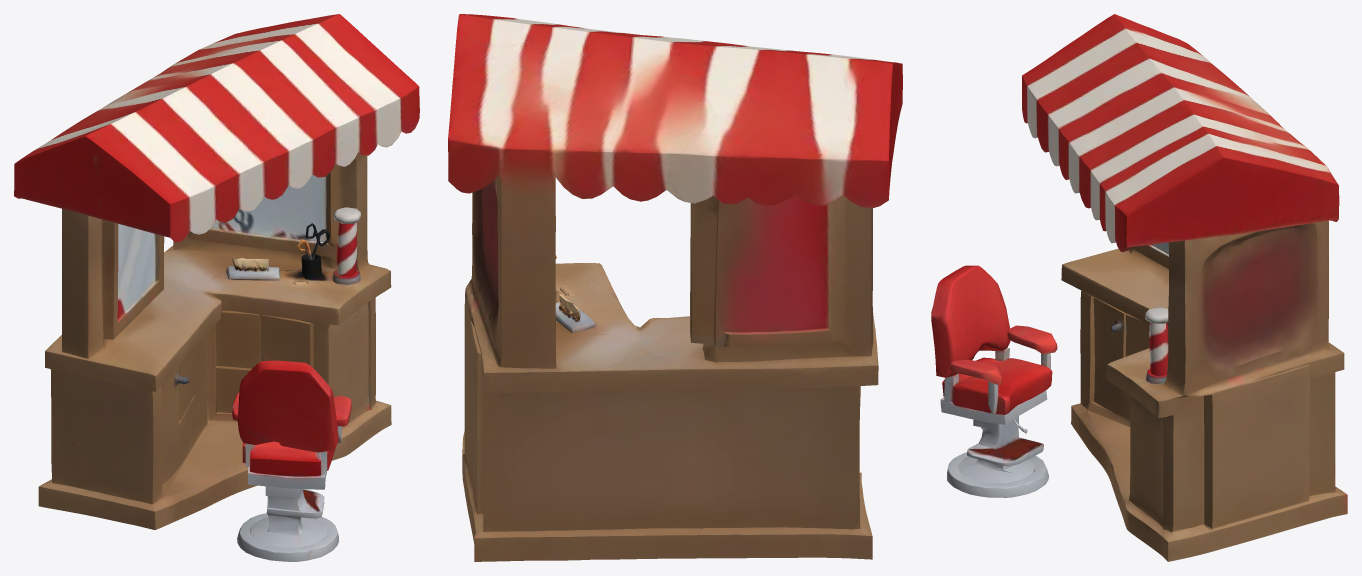
The model's file is stall_barber.glb.
3 renders of one model, left to right at view 1: azimuth 30°, elevation 25°; view 2: azimuth 150°, elevation 25°; view 3: azimuth 270°, elevation 25°, orthographic. The views are drawn at different scales.
Parts seen in each view (by area): view 1: model; view 2: model; view 3: model.
Part boxes in pixels (x1=…): model: x1=14, y1=14, x2=419, y2=561; model: x1=448, y1=14, x2=902, y2=561; model: x1=931, y1=14, x2=1347, y2=561.
Bounding box in the file's own units: 1.85 × 1.9 × 1.8.
Materials: 1 (1 with a texture image).
